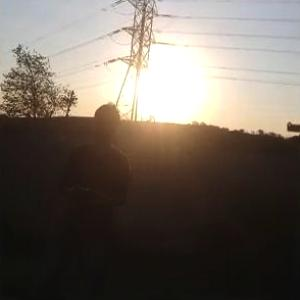follow: (54, 101, 135, 299)
